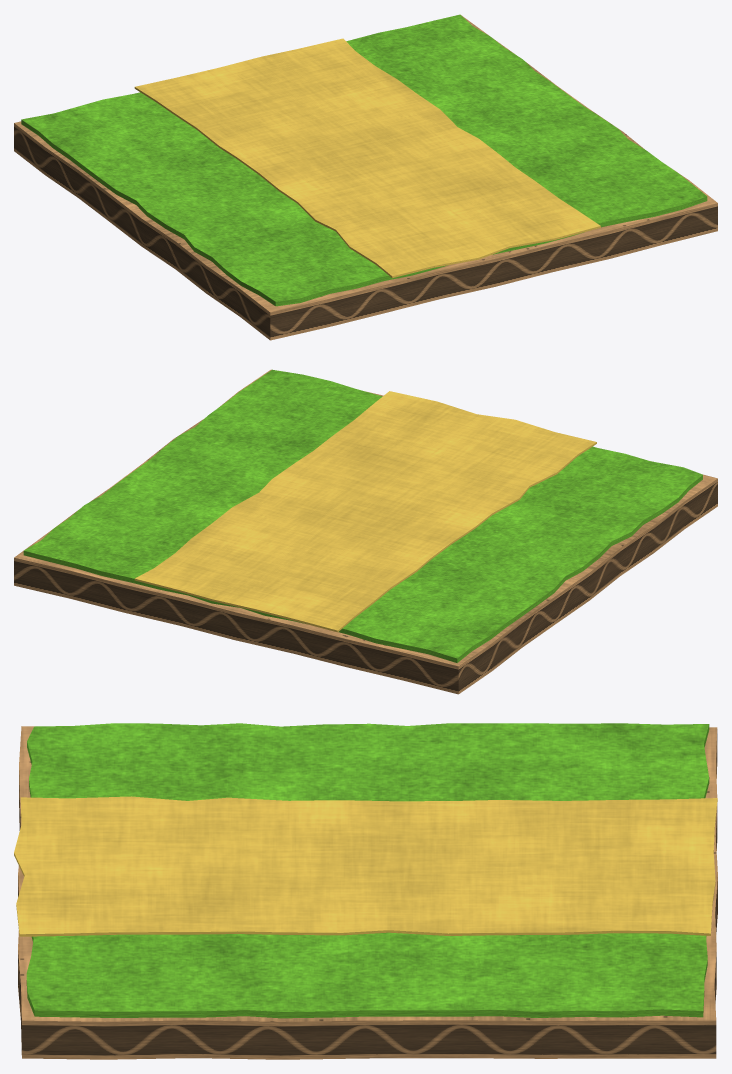
File: ground_tile_path.gltf
3 views of the same model, one above another, from view 1: azimuth 30°, elevation 25°; view 2: azimuth 150°, elevation 25°; view 3: azimuth 270°, elevation 25° (orthographic). The views are drawn at different scales.
Parts seen in each view (by area): view 1: ground_tile_path; view 2: ground_tile_path; view 3: ground_tile_path.
Part boxes in pixels (left/top/right/bottom): ground_tile_path: left=14, top=14, right=717, bottom=340; ground_tile_path: left=14, top=369, right=717, bottom=694; ground_tile_path: left=14, top=723, right=717, bottom=1059.
Size of the model in its own units: 2.01 by 0.148 by 2.02.
4 materials, 4 textured.
